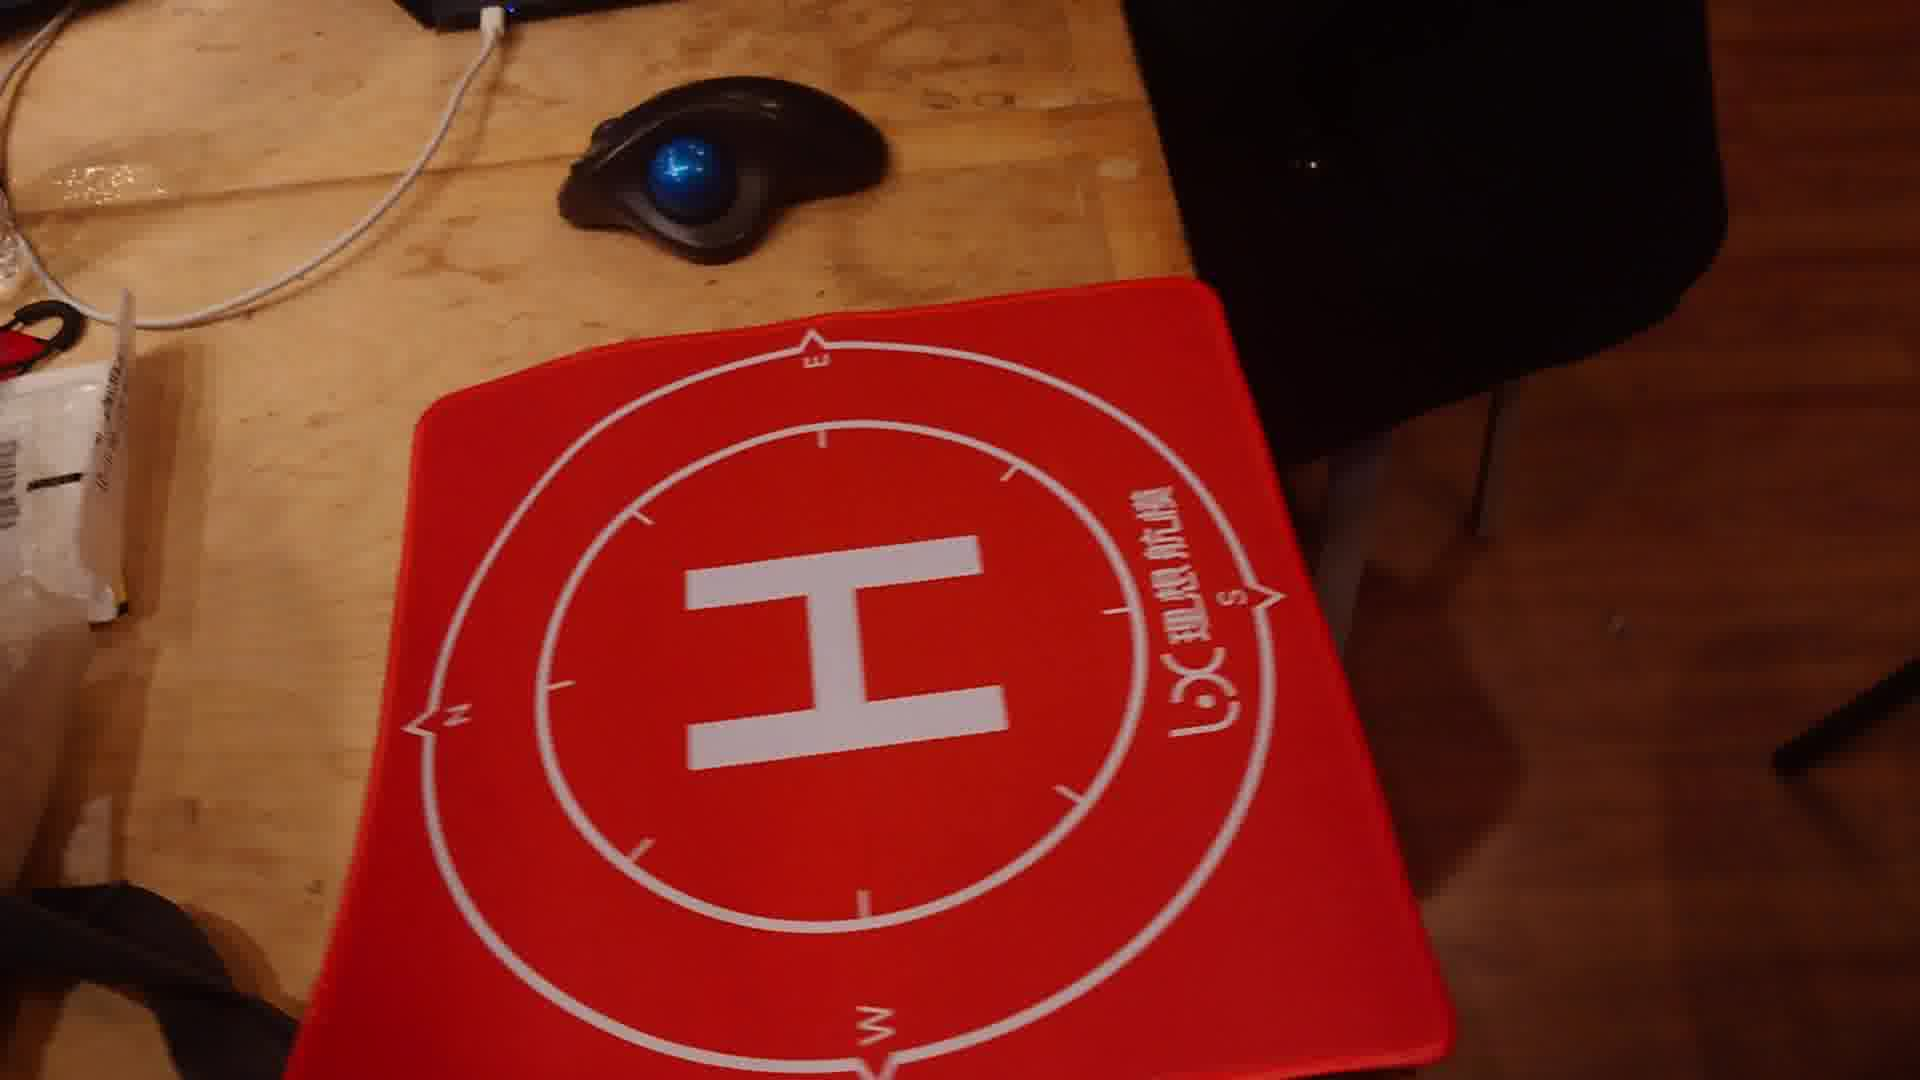H: (676, 534, 1011, 773)
